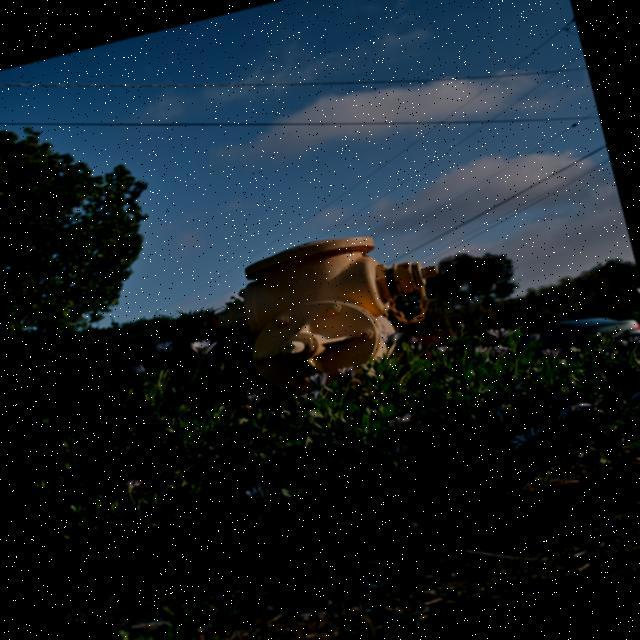fire_hydrant: (177, 212, 460, 420)
